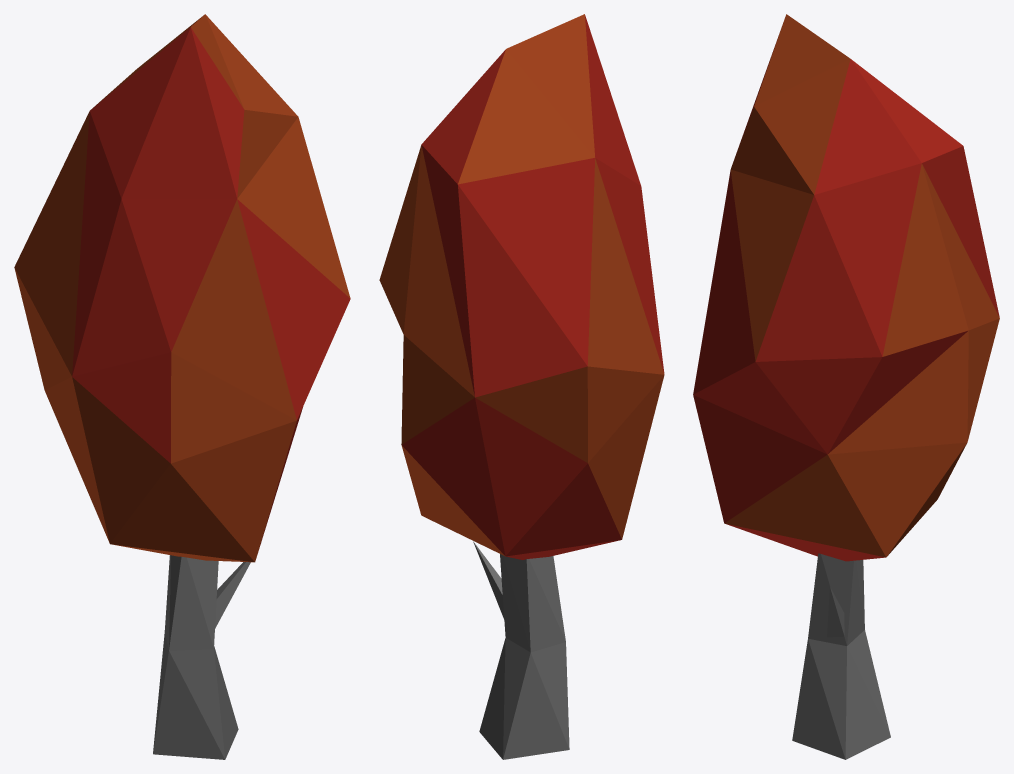
Rendered from Tree1_M2_5_medium.fbx.
The picture shows the model from 3 angles, left to right: view 1: azimuth 30°, elevation 25°; view 2: azimuth 150°, elevation 25°; view 3: azimuth 270°, elevation 25°; orthographic projection. The views are drawn at different scales.
Visible parts, largest first — view 1: Tree1_M2_5_medium; view 2: Tree1_M2_5_medium; view 3: Tree1_M2_5_medium.
Boxes of the visible parts, x1,y1,x2,y2 form: Tree1_M2_5_medium: [14, 14, 350, 759]; Tree1_M2_5_medium: [379, 14, 664, 759]; Tree1_M2_5_medium: [693, 14, 999, 759].
Size of the model in its own units: 115 by 309 by 121.
